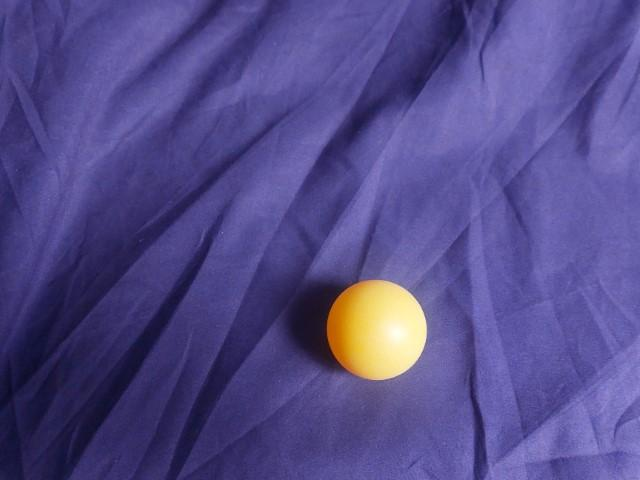oball: (204, 94, 318, 207)
